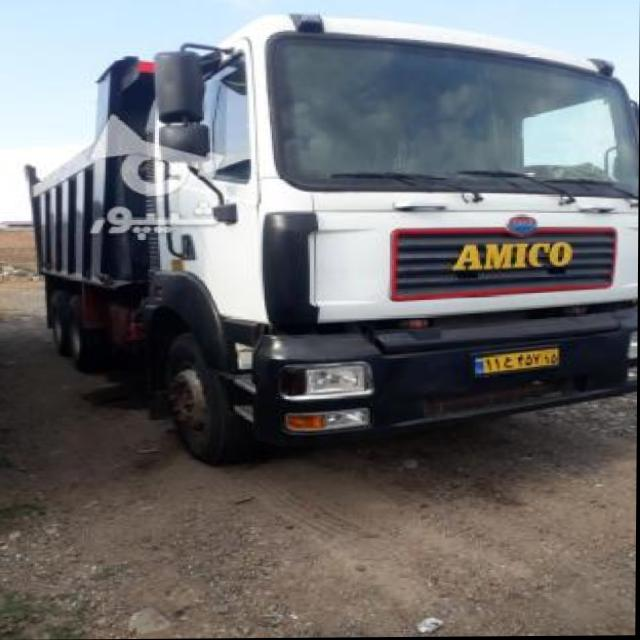licence: (468, 346, 560, 374)
